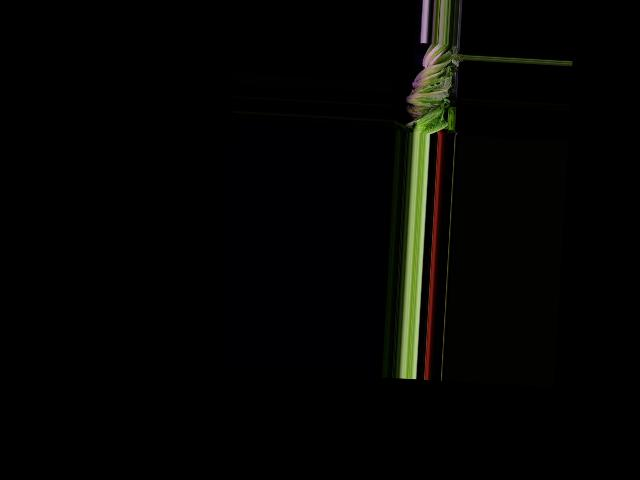lettuce: (420, 42, 451, 71)
